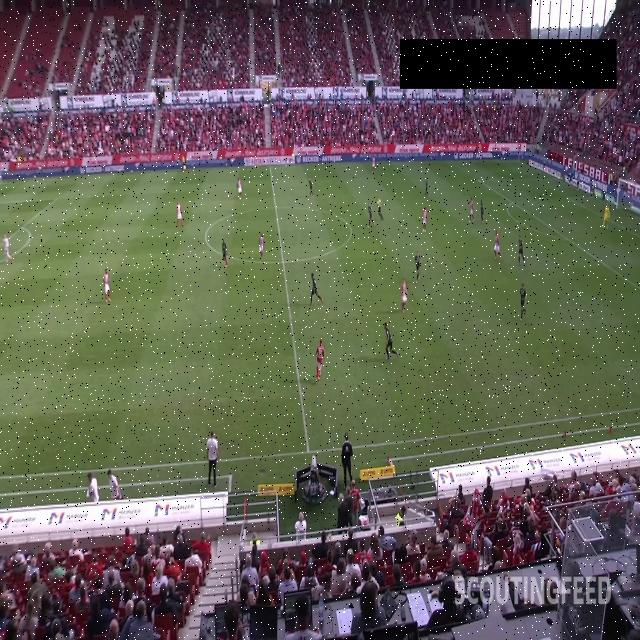GoalKeeper: (1, 232, 12, 264), (601, 203, 610, 230)
Referee: (595, 603, 609, 640), (376, 198, 383, 220), (181, 154, 186, 172)
TEAM 1: (315, 339, 325, 384), (102, 270, 112, 303), (493, 230, 503, 262), (399, 278, 408, 313), (175, 201, 184, 228), (468, 197, 476, 225), (258, 232, 265, 259), (422, 205, 428, 233), (236, 177, 243, 201), (371, 150, 377, 173)
TEAM 2: (384, 322, 399, 361), (309, 273, 323, 306), (519, 282, 527, 322), (516, 235, 526, 265), (414, 251, 422, 284), (367, 202, 376, 228), (221, 238, 228, 268), (478, 199, 484, 223), (424, 177, 429, 198), (308, 178, 313, 198)
